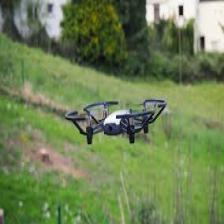drone: (66, 98, 167, 142)
